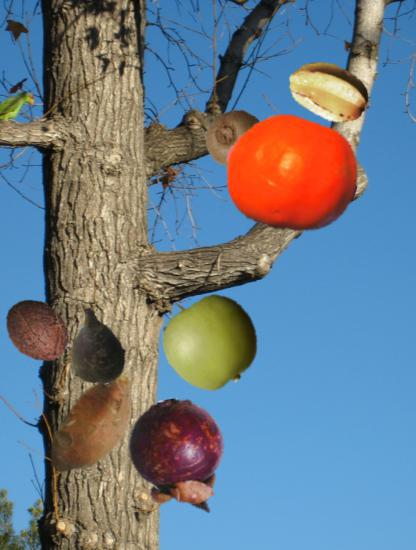Apple: (160, 290, 260, 390)
Beetroot: (53, 306, 139, 392)
Carambula: (288, 50, 371, 133)
Clementine: (225, 108, 358, 241)
Cocos: (1, 295, 72, 366)
Kiwi: (205, 107, 268, 170)
Mangostan: (119, 399, 238, 518)
Potato: (34, 364, 157, 487)
